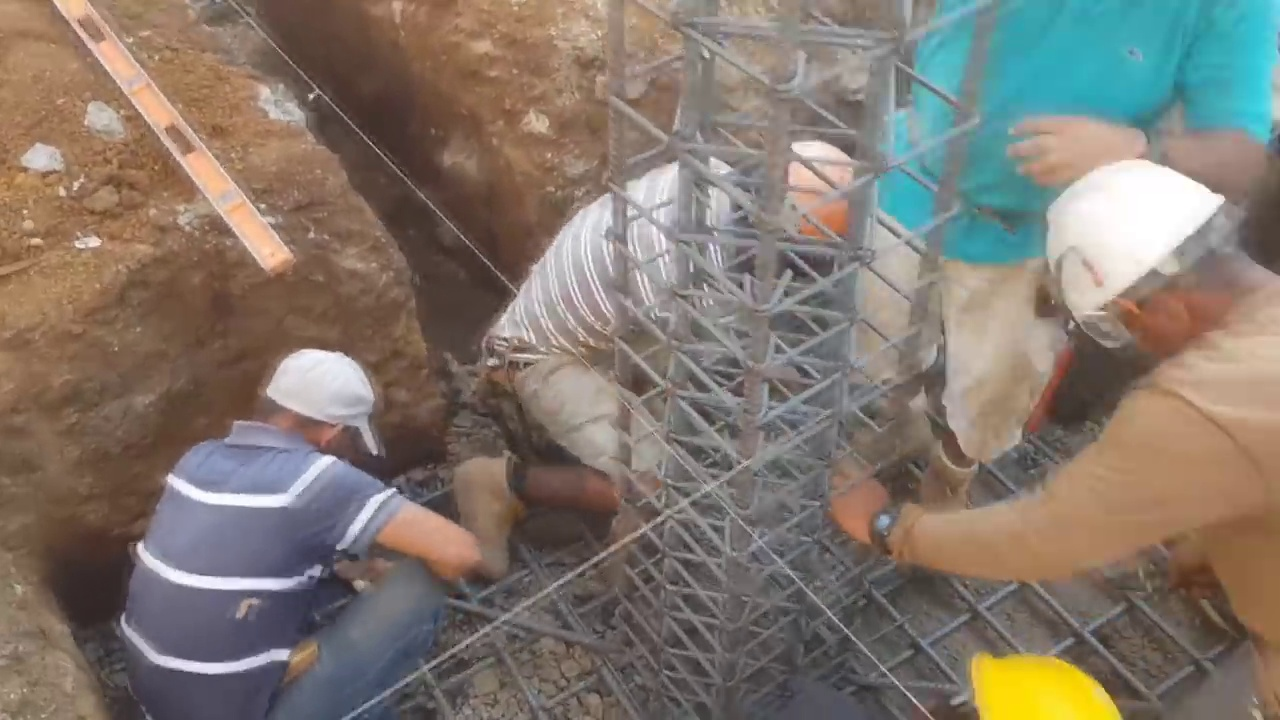helmet: (1067, 167, 1209, 333), (966, 652, 1134, 720), (786, 133, 863, 255)
helmet-off: (252, 350, 379, 468)
helmet-on: (1042, 152, 1270, 376), (720, 124, 860, 280)
person: (854, 147, 1275, 717), (836, 2, 1279, 527), (458, 129, 870, 561), (110, 329, 505, 714)
